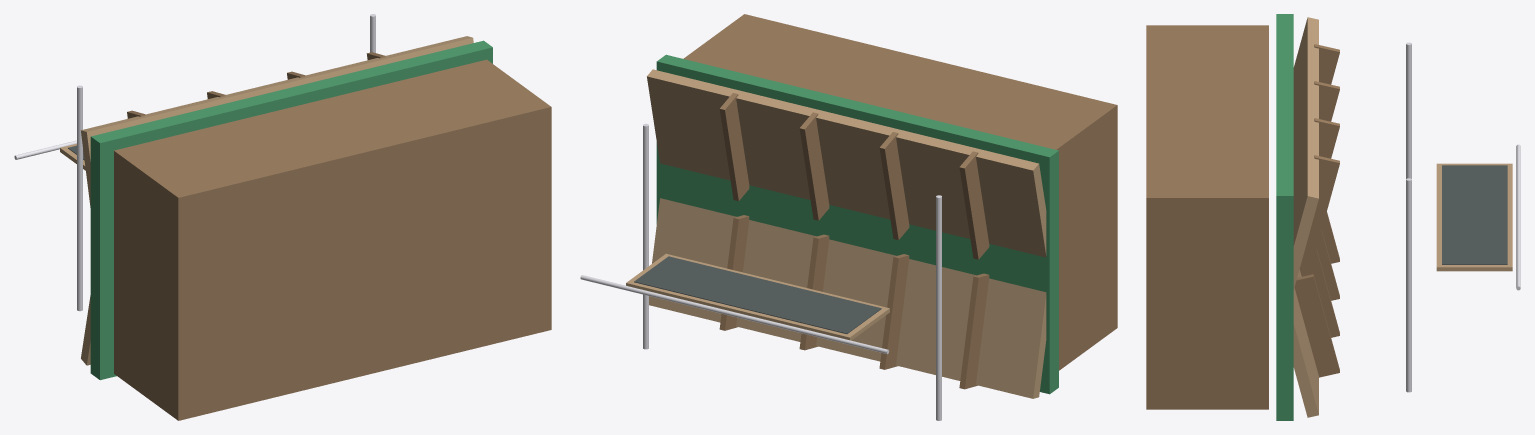
Rendered from produce_island.glb.
3 renders of one model, left to right at view 1: azimuth 30°, elevation 25°; view 2: azimuth 150°, elevation 25°; view 3: azimuth 270°, elevation 25°, orthographic. The views are drawn at different scales.
Parts seen in each view (by area): view 1: Cube, Cube.003, Cube.001, Cylinder; view 2: Cube, Cube.001, Cube.002, Cube.003, Cube.012, Cube.013, Cube.005, Cube.007, Cube.006, Cube.010, Cube.004, Cube.008 (+5 smaller); view 3: Cube, Cube.003, Cube.012, Cube.001, Cube.011, Cube.002, Cube.013, Cube.010, Cylinder.001, Cube.009, Cylinder, Cylinder.002 (+5 smaller).
Part boxes in pixels (left/top/right/bottom): Cube: left=114, top=59, right=551, bottom=420; Cube.003: left=90, top=40, right=492, bottom=380; Cube.001: left=81, top=36, right=473, bottom=207; Cylinder: left=77, top=85, right=82, bottom=311; Cube: left=683, top=14, right=1117, bottom=370; Cube.001: left=647, top=69, right=1046, bottom=257; Cube.002: left=649, top=198, right=1046, bottom=398; Cube.003: left=656, top=54, right=1058, bottom=394; Cube.012: left=634, top=256, right=881, bottom=333; Cube.013: left=626, top=253, right=889, bottom=340; Cube.005: left=959, top=273, right=989, bottom=389; Cube.007: left=879, top=254, right=909, bottom=369; Cube.006: left=879, top=132, right=909, bottom=240; Cube.010: left=719, top=93, right=749, bottom=201; Cube.004: left=959, top=151, right=989, bottom=259; Cube.008: left=799, top=112, right=829, bottom=220; Cube: left=1146, top=25, right=1268, bottom=409; Cube.003: left=1276, top=14, right=1293, bottom=420; Cube.012: left=1442, top=165, right=1507, bottom=264; Cube.001: left=1293, top=17, right=1318, bottom=289; Cube.011: left=1294, top=274, right=1339, bottom=377; Cube.002: left=1293, top=269, right=1318, bottom=417; Cube.013: left=1436, top=163, right=1512, bottom=271; Cube.010: left=1303, top=155, right=1339, bottom=259; Cylinder.001: left=1406, top=178, right=1411, bottom=392; Cube.009: left=1299, top=249, right=1339, bottom=337; Cylinder: left=1406, top=42, right=1411, bottom=178; Cylinder.002: left=1516, top=144, right=1520, bottom=290.
Bounding box in the file's own units: 2.95 × 1.7 × 2.57.
